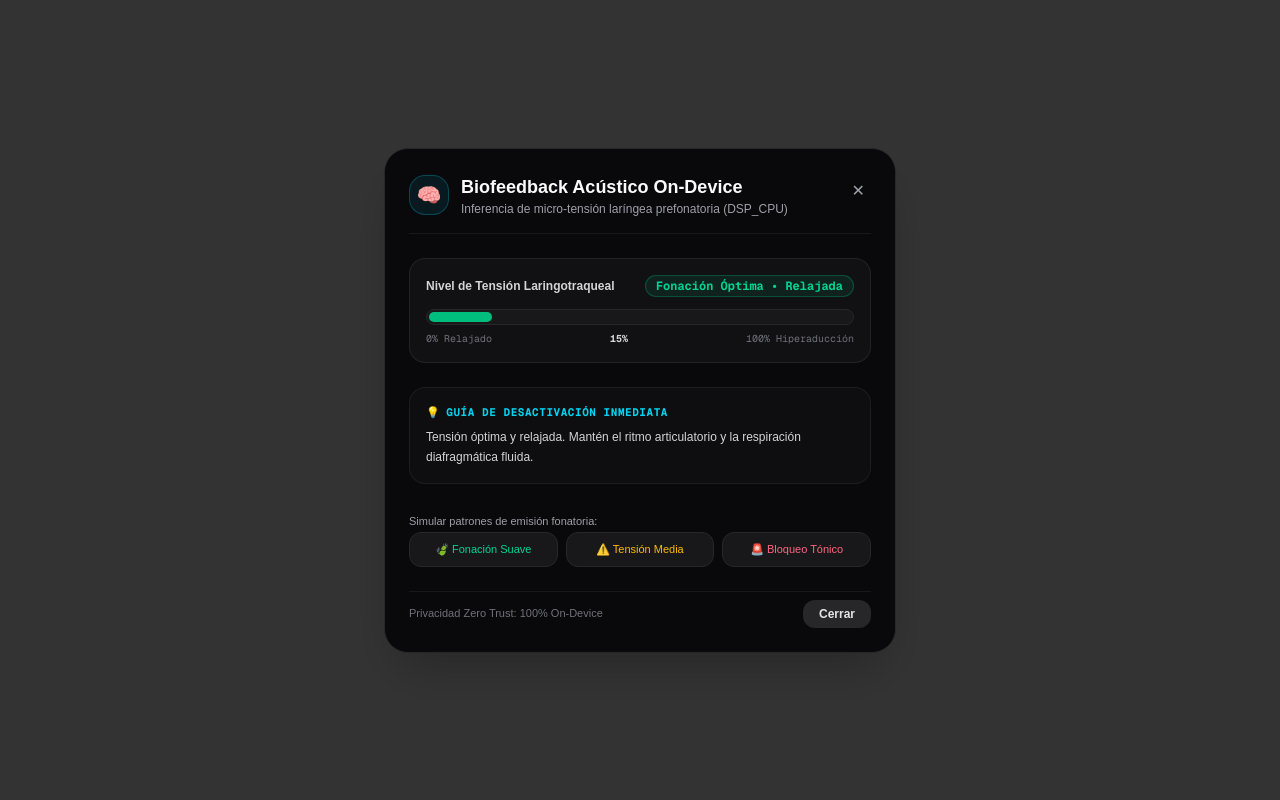
AcousticBiofeedback Component › debe actualizar el estado visual al simular un bloqueo tónico
This screenshot has width=1280, height=800.
Click the button "🚨 Bloqueo Tónico" at (797, 549), box [722,532,871,566]
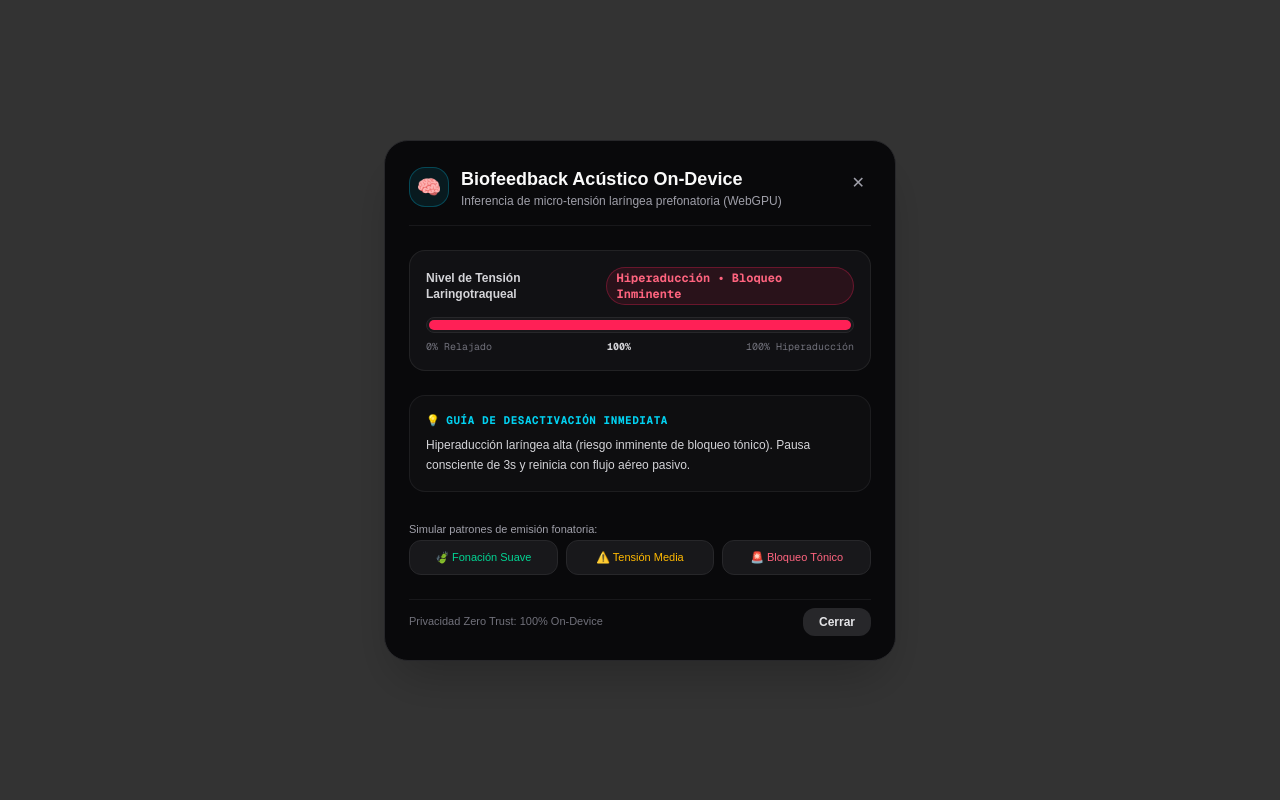
Result: the text "Hiperaducción • Bloqueo Inminente" is shown at [606,266,854,304]
Result: the text "Hiperaducción laríngea alta" is shown at [426,438,810,472]
